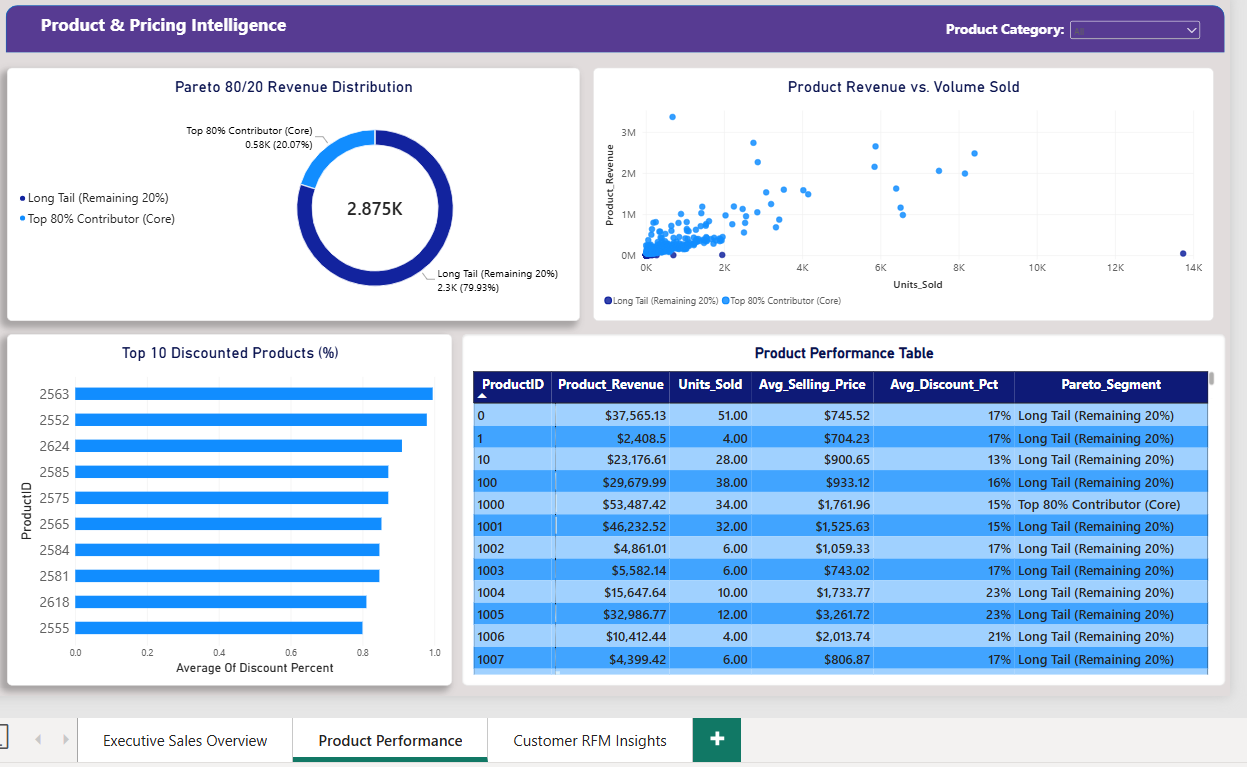

This screenshot's page, from the dashboard's own definition file:
{"tool":"powerbi","page":{"name":"Product Performance","canvas":[1920,1080],"ordinal":1},"visuals":[{"type":"shape","box":[37.4,17.7,1875.1,72.8],"z":0},{"type":"textbox","box":[90.5,29,392.7,52.5],"z":1000},{"type":"slicer","fields":{"Values":["vw_Product_Performance.Pareto_Segment"]},"box":[1668.5,36.2,209.9,45.2],"z":2000},{"type":"donutChart","title":"Pareto 80/20 Revenue Distribution","fields":{"Category":["vw_Product_Performance.Pareto_Segment"],"Y":["CountNonNull(vw_Product_Performance.Product_Revenue)"]},"box":[39,113.6,881.4,389.8],"z":3000},{"type":"scatterChart","title":"Product Revenue vs. Volume Sold","fields":{"X":["vw_Product_Performance.Units_Sold"],"Y":["vw_Product_Performance.Product_Revenue"],"Series":["vw_Product_Performance.Pareto_Segment"]},"box":[940.5,114.1,954.3,389.6],"z":4000},{"type":"tableEx","title":"Product Performance Table","fields":{"Values":["vw_Product_Performance.ProductID","vw_Product_Performance.Product_Revenue","vw_Product_Performance.Units_Sold","vw_Product_Performance.Avg_Selling_Price","vw_Product_Performance.Avg_Discount_Pct","vw_Product_Performance.Pareto_Segment"]},"box":[737.9,523.4,1174.7,541.1],"z":5000},{"type":"clusteredBarChart","title":"Top 10 Discounted Products (%)","fields":{"Y":["Avg(vw_Product_Performance.Avg_Discount_Pct)"],"Category":["vw_Product_Performance.ProductID"]},"box":[39.4,523.4,684.7,541.1],"z":6000},{"type":"textbox","box":[1499.3,35.4,318.8,45.3],"z":7000}]}

Visuals, with their boxes on the page's 1920x1080 design canvas (x1, y1, x2, y2). These are canvas units, not pixel positions in the 1247x767 screenshot, which may show the page scaled, cropped or inside an application window:
shape: 37:18:1912:90
textbox: 90:29:483:82
slicer - vw_Product_Performance.Pareto_Segment: 1668:36:1878:81
"Pareto 80/20 Revenue Distribution" donutChart: 39:114:920:503
"Product Revenue vs. Volume Sold" scatterChart: 940:114:1895:504
"Product Performance Table" tableEx: 738:523:1913:1064
"Top 10 Discounted Products (%)" clusteredBarChart: 39:523:724:1064
textbox: 1499:35:1818:81
